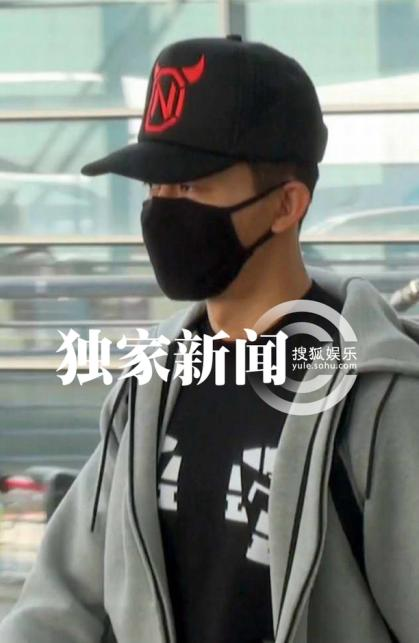face_mask: (141, 119, 253, 301)
